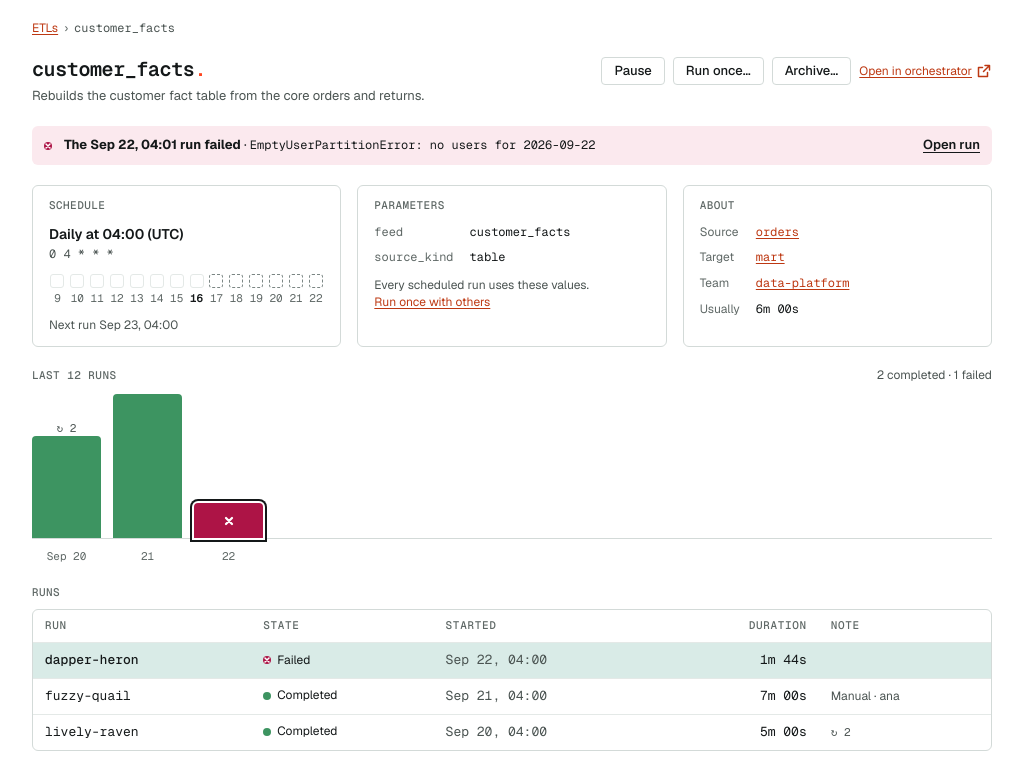
Test: EtlPage › lists the parameters every scheduled run uses, and runs once with others from there
Expected: the table named "Runs" is shown, left=33, top=610, right=991, bottom=750
Expected: the text "feed" is shown, left=374, top=224, right=403, bottom=240
Click the button "Run once with others" at coordinates (432, 303), box left=374, top=294, right=490, bottom=312
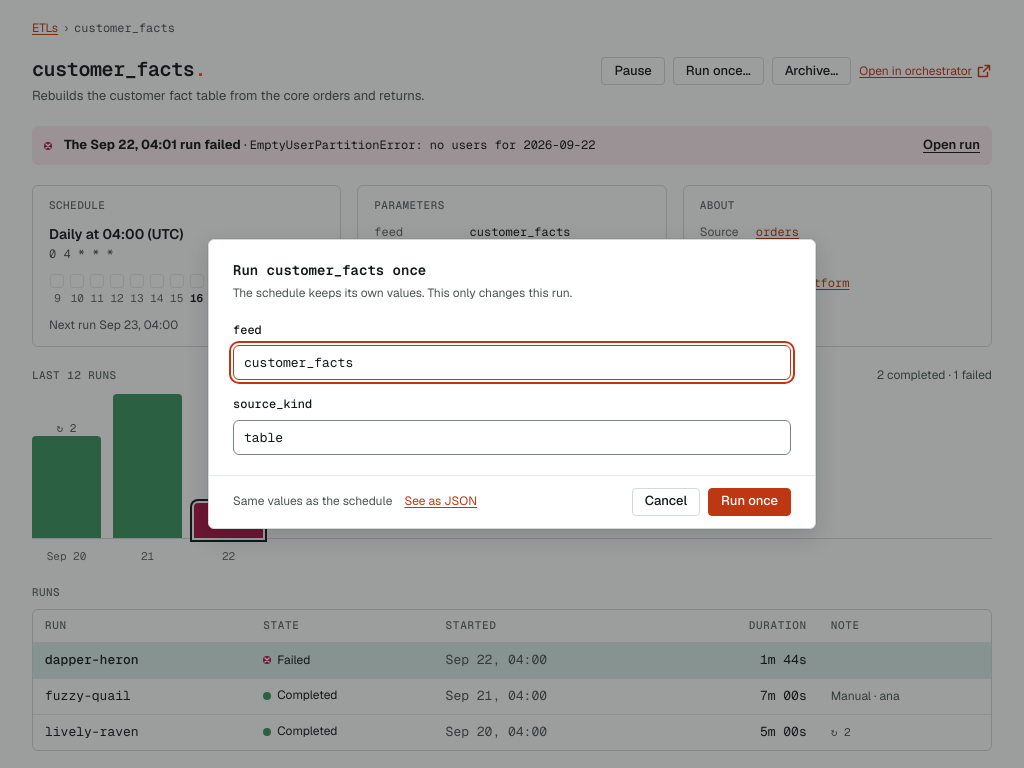
Expected: the dialog "Run customer_facts once" is shown, left=208, top=239, right=816, bottom=529
